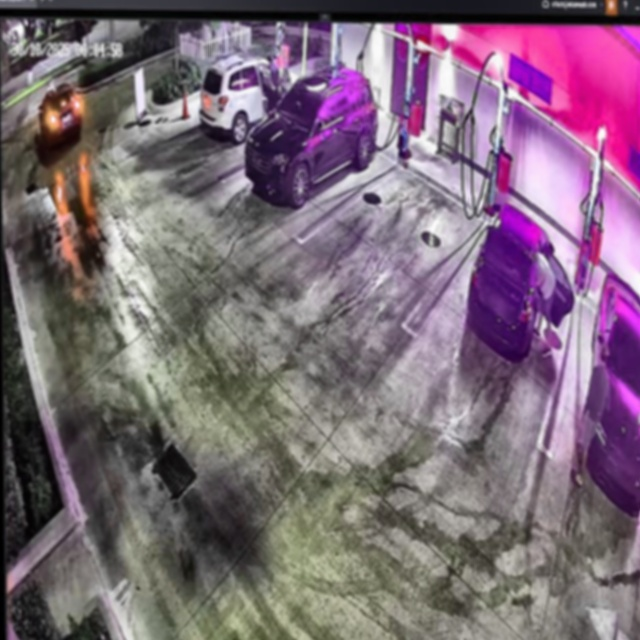Car: (244, 63, 381, 211), (464, 198, 574, 364)
